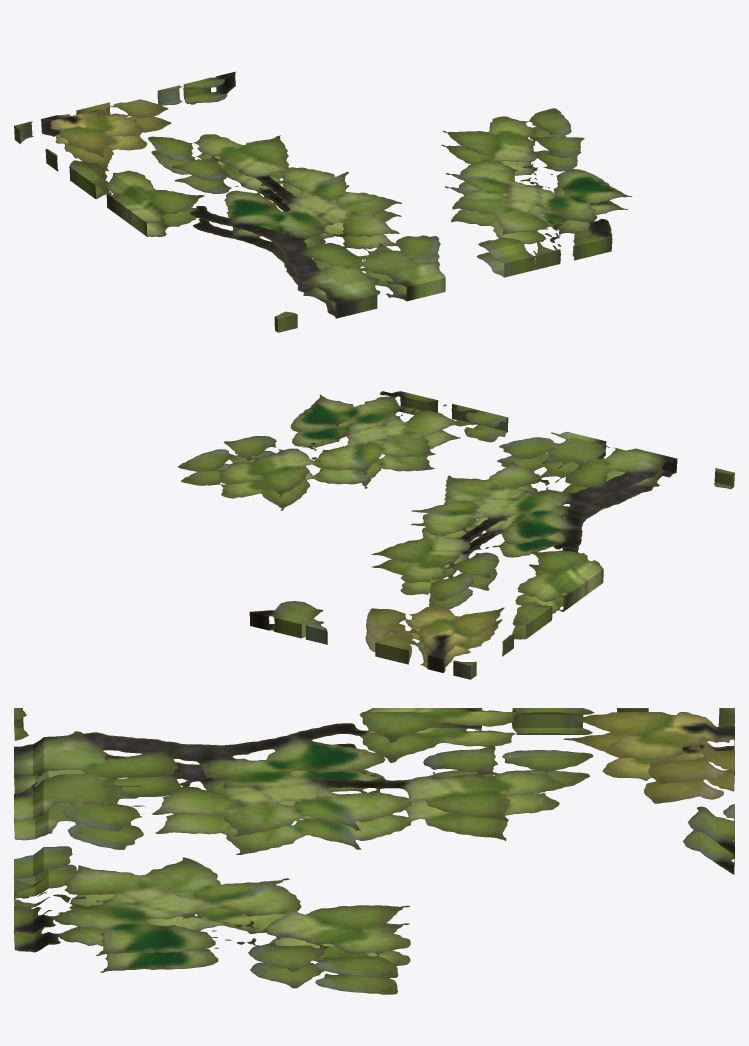
Rendered from metal_panel1x1.FBX.
3 views of the same model, one above another, from view 1: azimuth 30°, elevation 25°; view 2: azimuth 150°, elevation 25°; view 3: azimuth 270°, elevation 25° (orthographic). The views are drawn at different scales.
Parts seen in each view (by area): view 1: metal_panel1x1; view 2: metal_panel1x1; view 3: metal_panel1x1.
Boxes of the visible parts, x1,y1,x2,y2 form: metal_panel1x1: [14, 71, 631, 332]; metal_panel1x1: [178, 391, 734, 679]; metal_panel1x1: [14, 708, 734, 994].
Size of the model in its own units: 2 by 2 by 0.0857.
